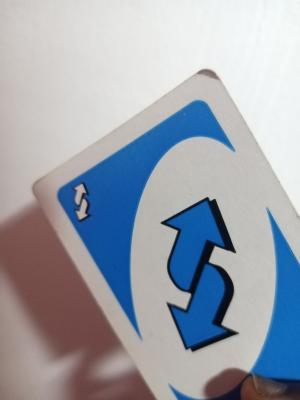blue: (114, 149, 281, 352)
reverse: (67, 177, 99, 224)
